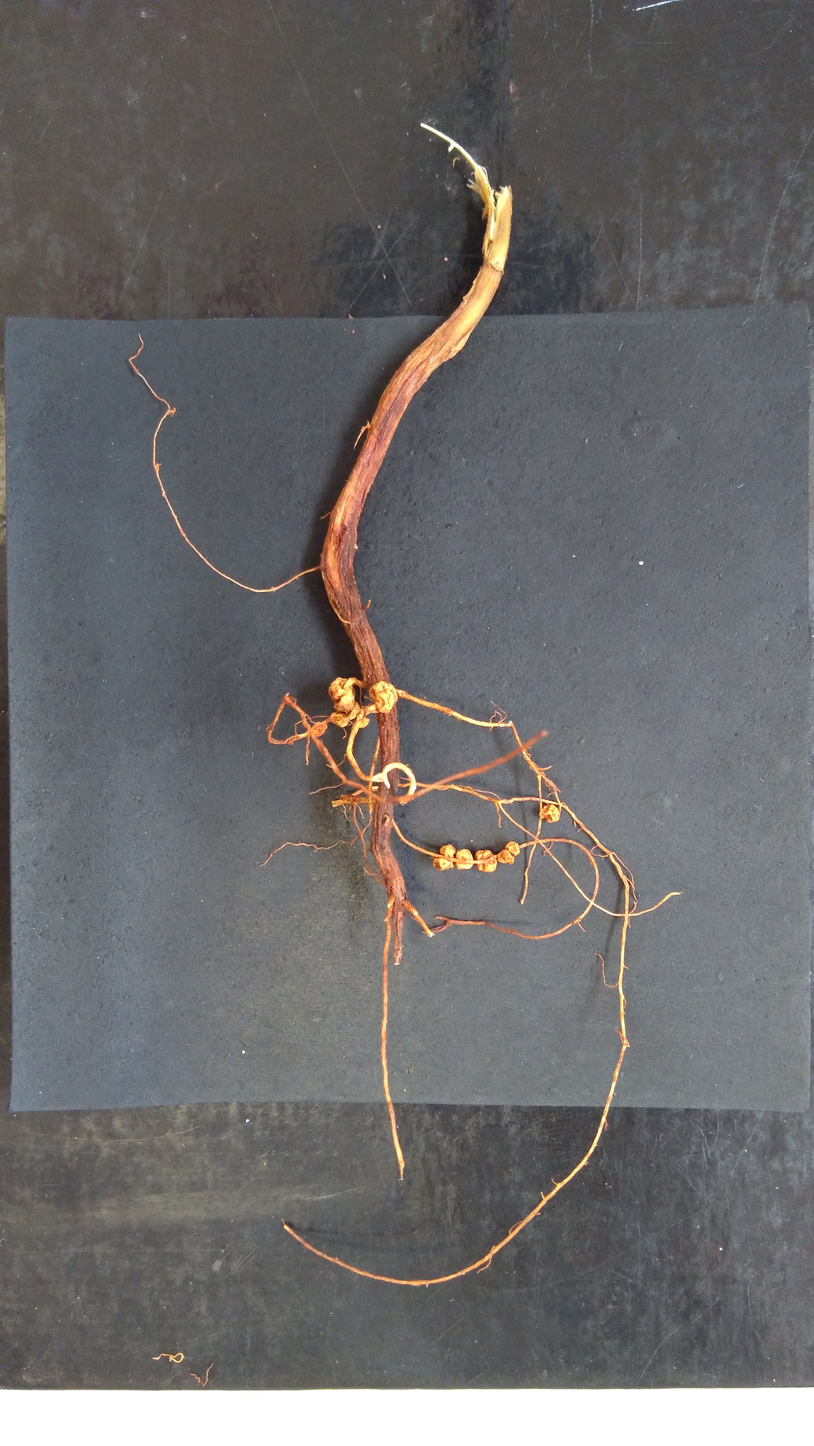nodule: (368, 680, 400, 715), (327, 676, 356, 713), (474, 848, 498, 873), (538, 803, 560, 824), (455, 848, 474, 870), (432, 855, 455, 872), (343, 701, 361, 721), (329, 711, 350, 728), (496, 848, 516, 865), (439, 842, 458, 858), (504, 840, 521, 857), (311, 721, 328, 737), (358, 716, 370, 730), (287, 740, 295, 746)
